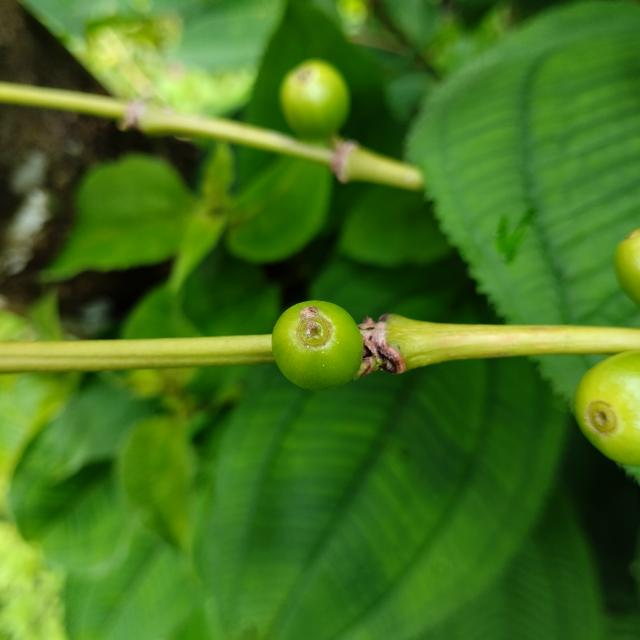green: (272, 301, 364, 391), (575, 351, 640, 467), (280, 59, 350, 138), (615, 228, 640, 306)
